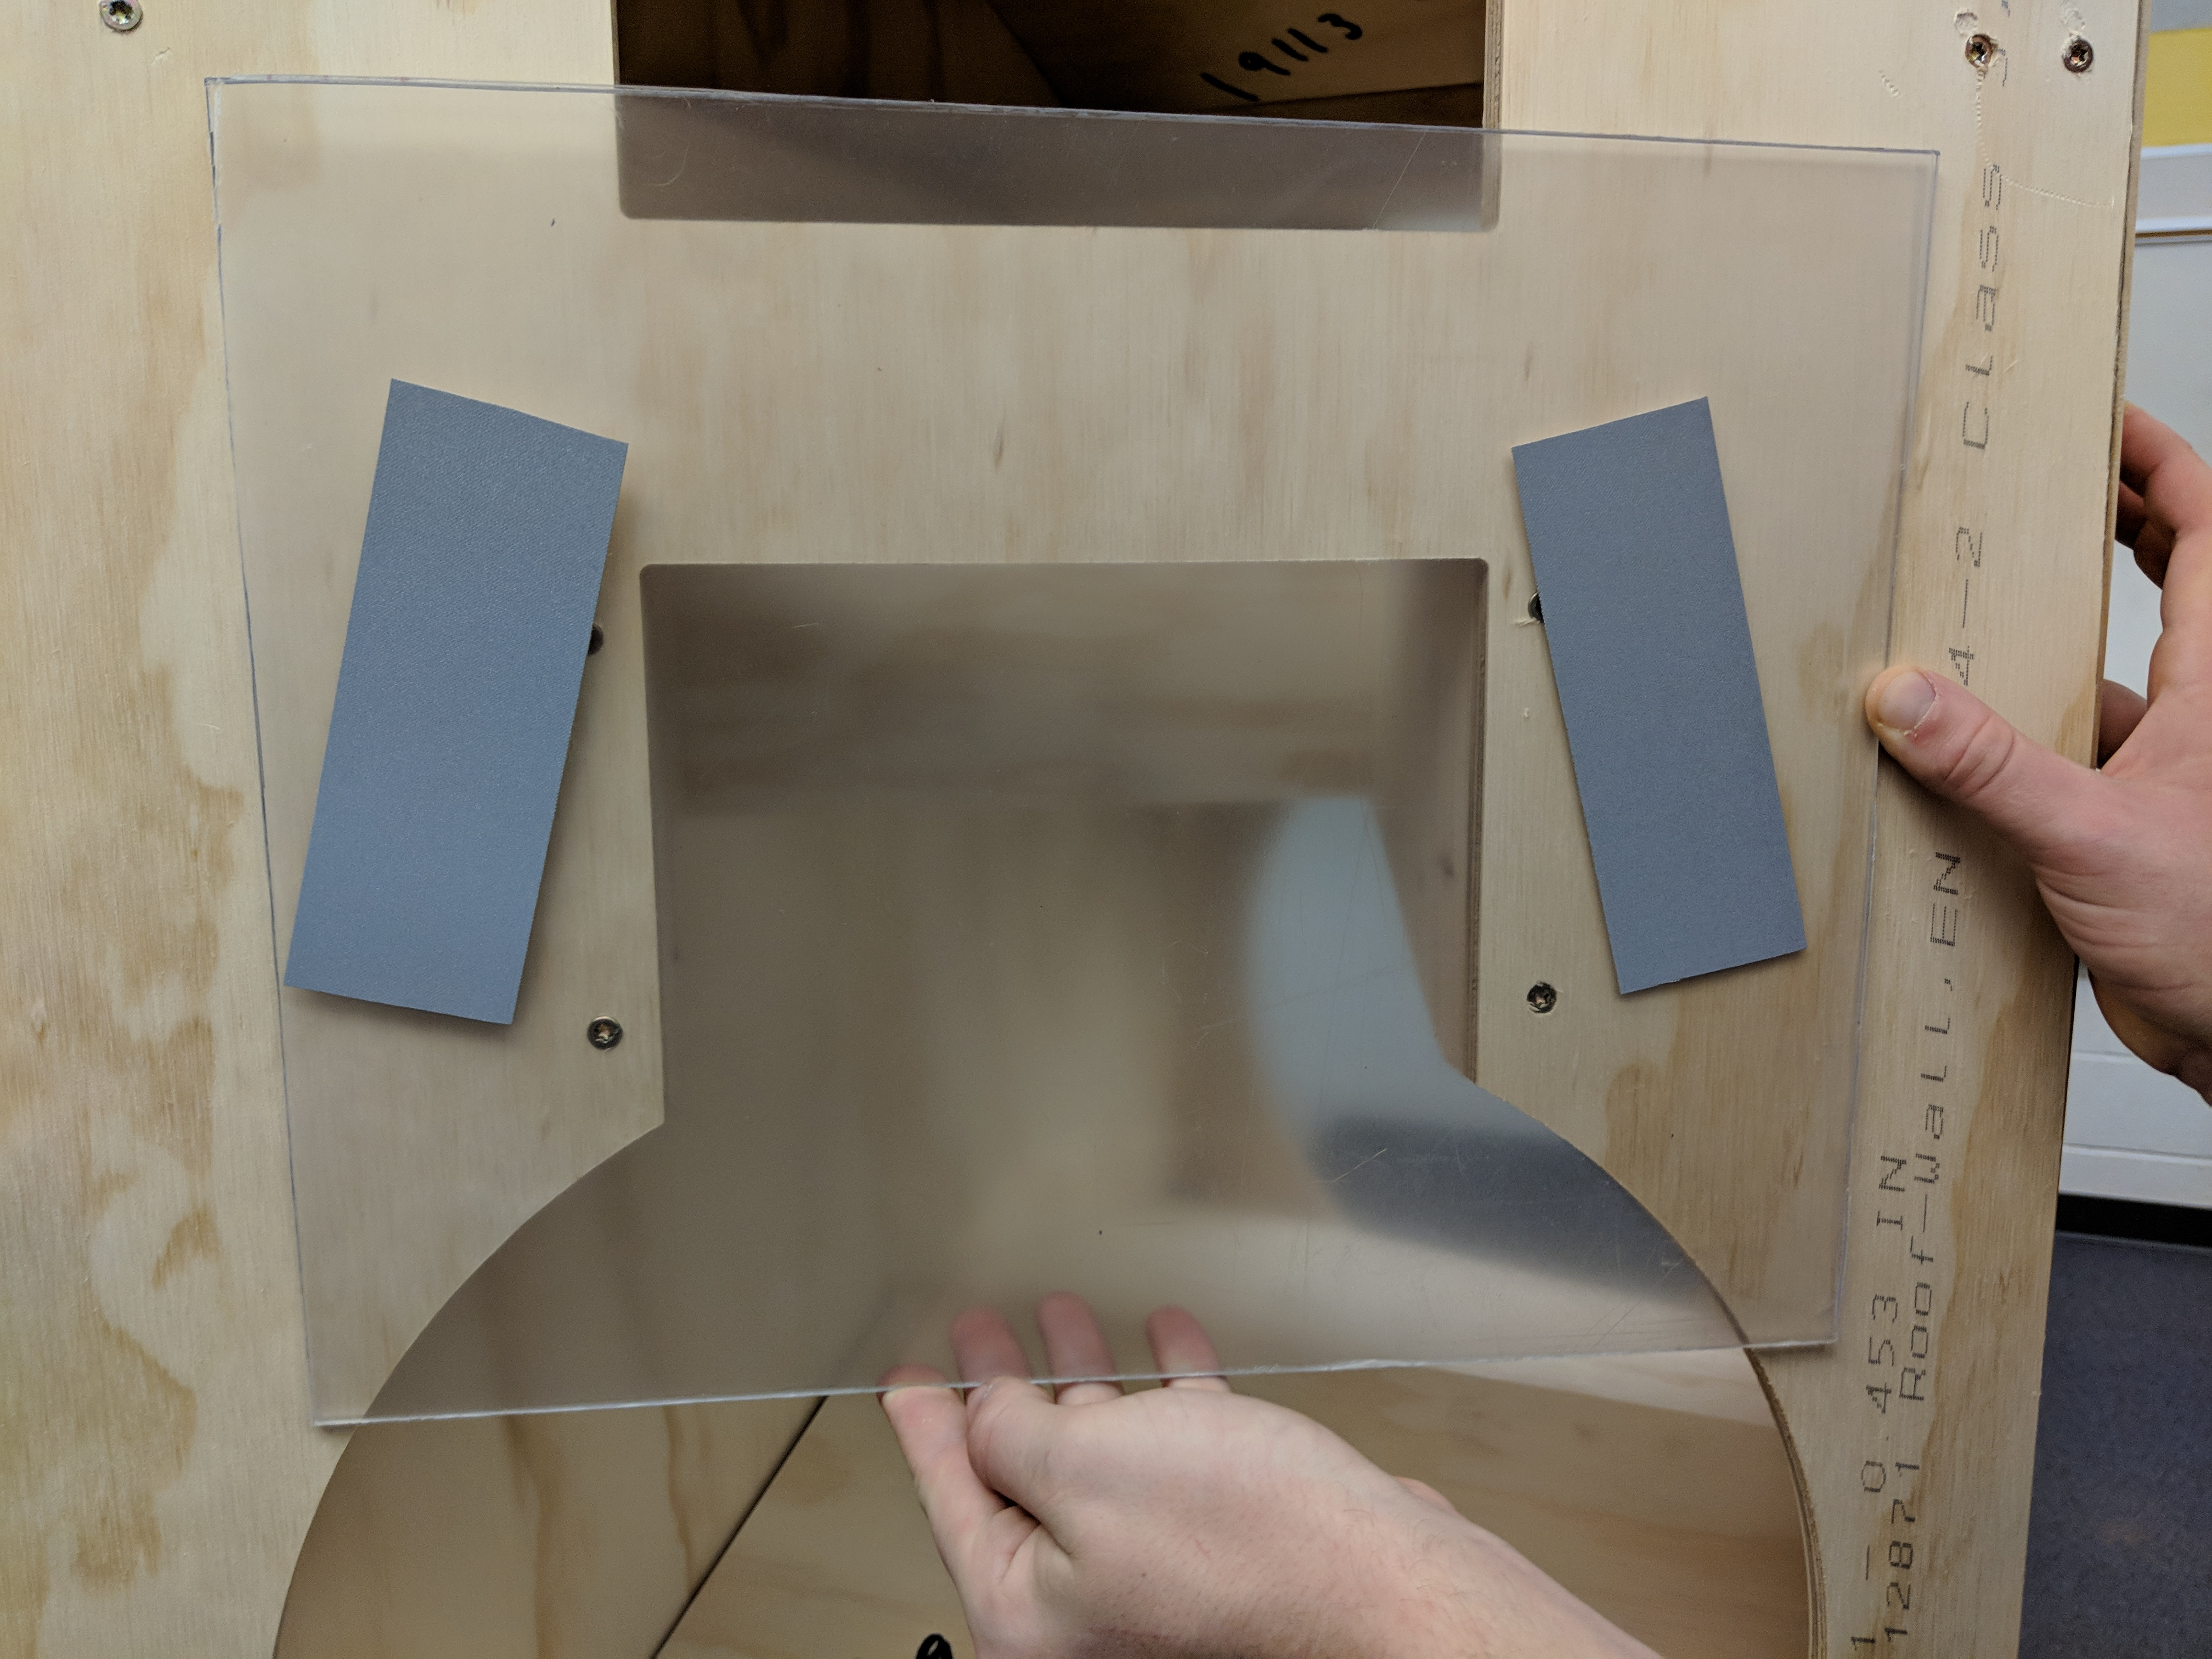vision_target: (282, 369, 1817, 1035)
